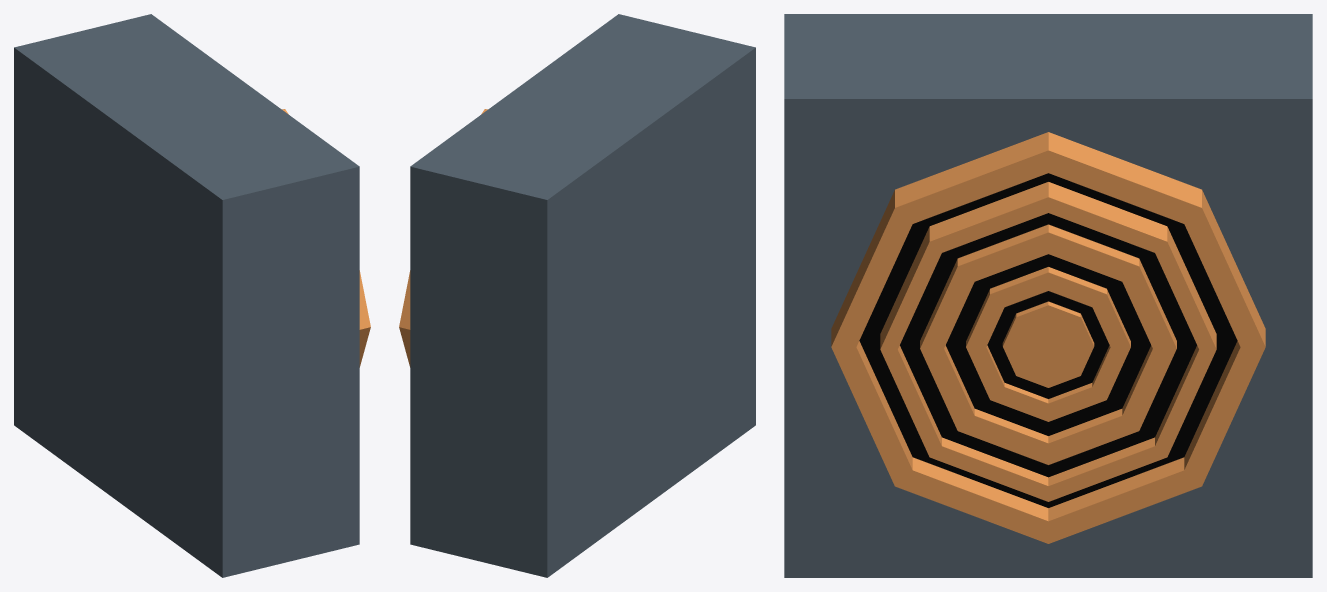
The model's file is vent.fbx.
3 renders of one model, left to right at view 1: azimuth 30°, elevation 25°; view 2: azimuth 150°, elevation 25°; view 3: azimuth 270°, elevation 25°, orthographic. The views are drawn at different scales.
Visible parts, largest first — view 1: Cube; view 2: Cube; view 3: Cube.
Part boxes in pixels (bbox=[...]): Cube: bbox=[14, 14, 370, 577]; Cube: bbox=[399, 14, 755, 577]; Cube: bbox=[784, 14, 1312, 577].
Bounding box in the file's own units: 9.46 × 20 × 20.
